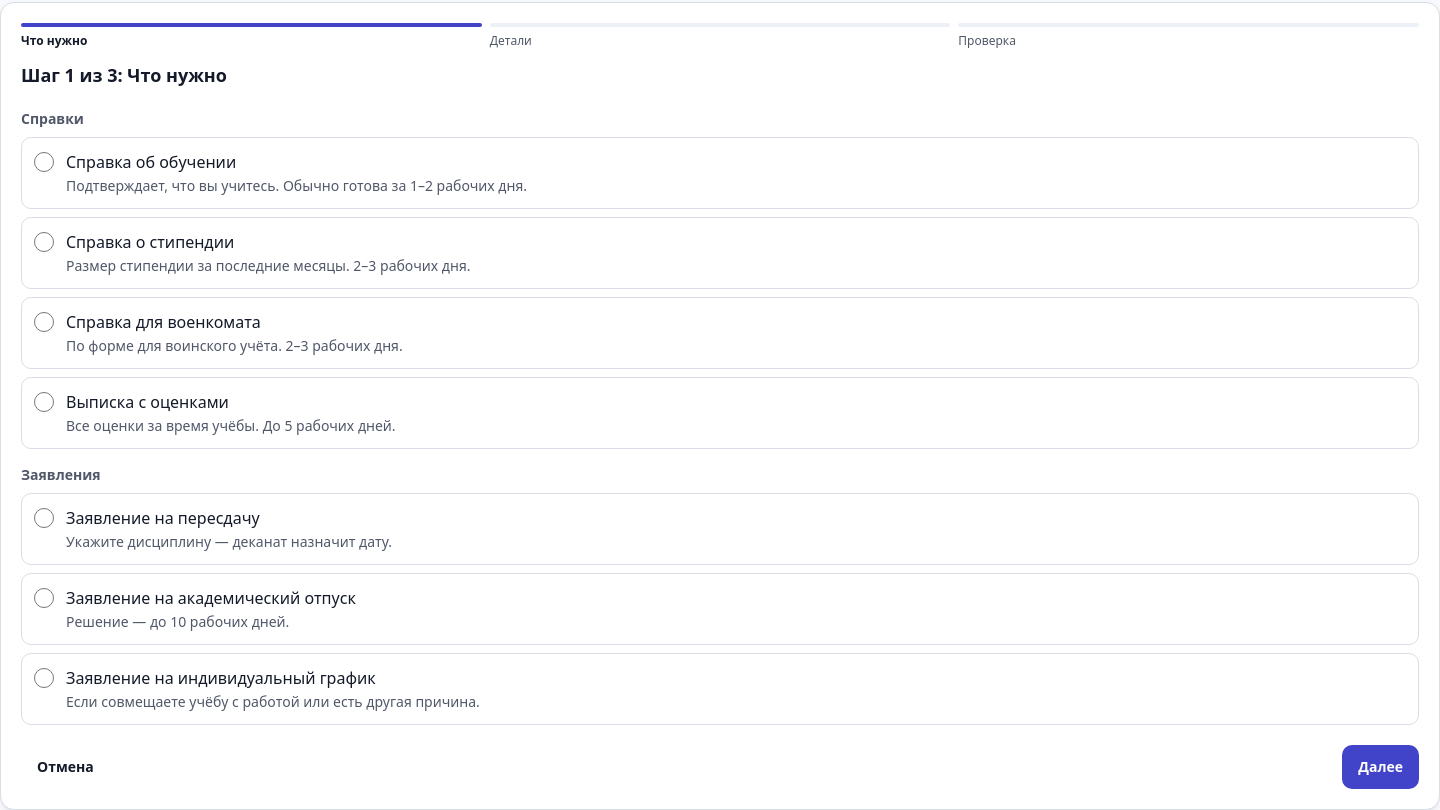
RequestsPage › «Отмена» закрывает мастер и возвращает список
(page scrolled)
Click the button "Отмена" at (65, 767), box [21, 745, 110, 789]
(page scrolled)
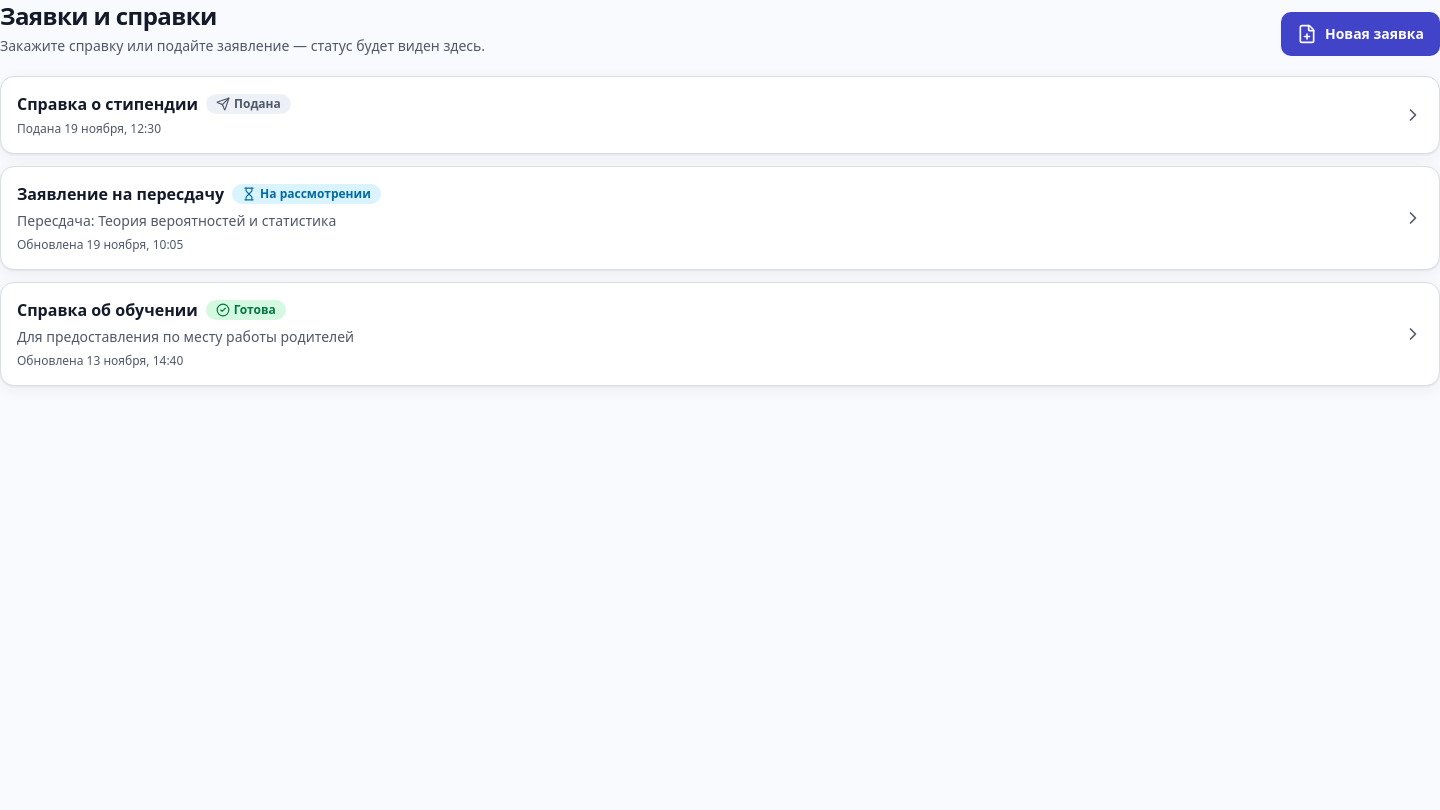
Expected: the number of links is 3, [0, 76, 1439, 154]; [0, 166, 1439, 270]; [0, 282, 1439, 386]
